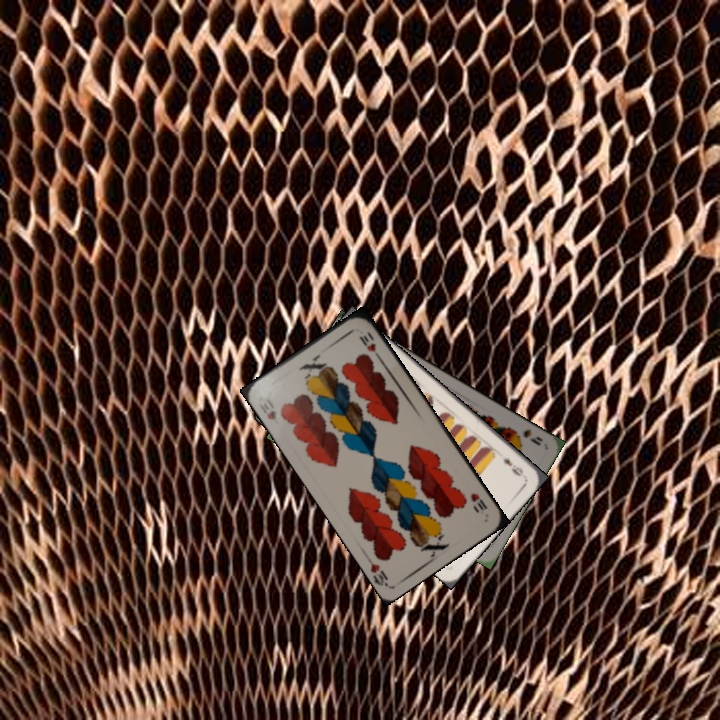E9: (499, 454, 526, 479)
H10: (466, 489, 490, 516), (256, 396, 279, 423)
S9: (508, 424, 546, 448)
